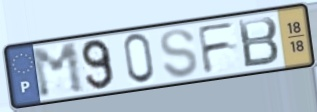0: (121, 32, 157, 87)
9: (80, 37, 117, 94)
B: (235, 14, 282, 70)
F: (195, 19, 238, 76)
M: (28, 40, 88, 101)
S: (158, 27, 200, 80)
